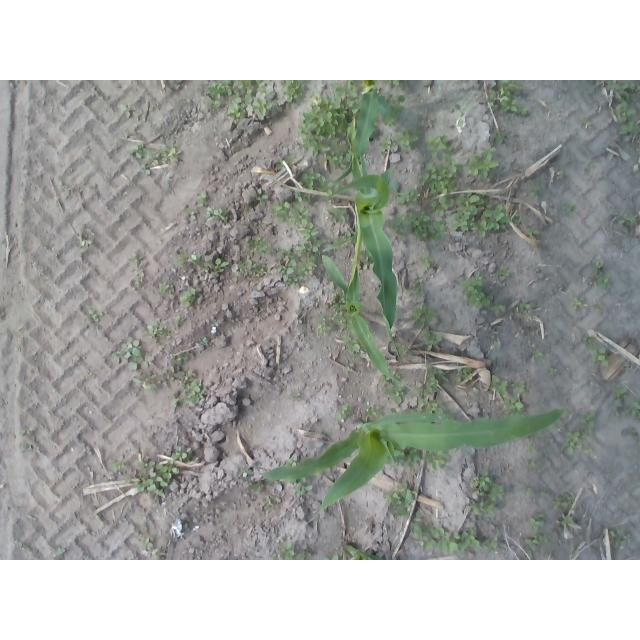Maize: (242, 409, 566, 528), (325, 108, 400, 357), (322, 201, 415, 396), (333, 80, 392, 184), (344, 545, 386, 560)
Weeds: (299, 92, 348, 168), (122, 446, 192, 499), (452, 189, 521, 237), (410, 521, 499, 553), (605, 80, 639, 142), (392, 210, 448, 243), (273, 202, 320, 239), (468, 470, 505, 516), (273, 249, 318, 286), (423, 158, 462, 199), (488, 81, 528, 115), (110, 340, 150, 371), (468, 145, 501, 179), (461, 272, 490, 307), (385, 480, 413, 516), (182, 371, 205, 404), (204, 81, 232, 108), (427, 136, 454, 161), (233, 80, 272, 97), (423, 400, 453, 419), (410, 303, 437, 324), (592, 260, 612, 288), (384, 96, 404, 123), (295, 237, 323, 256), (145, 322, 169, 343), (424, 451, 449, 471), (175, 249, 202, 267), (610, 525, 632, 547), (422, 329, 443, 352), (204, 259, 229, 278), (282, 81, 303, 103), (333, 308, 352, 332), (334, 81, 359, 99), (132, 375, 159, 390), (612, 388, 631, 409), (301, 169, 320, 190), (328, 207, 349, 226), (178, 288, 197, 309), (431, 198, 457, 213), (404, 279, 424, 298), (248, 235, 268, 254), (401, 450, 420, 470), (591, 348, 609, 369), (418, 377, 436, 398), (500, 395, 525, 410), (399, 128, 421, 145), (253, 97, 272, 116), (397, 190, 419, 206), (489, 375, 507, 394), (294, 478, 313, 496), (318, 174, 335, 194), (564, 432, 580, 453), (385, 385, 403, 403), (277, 541, 295, 559), (317, 317, 334, 336), (581, 411, 598, 429), (228, 98, 244, 117), (453, 101, 473, 116), (206, 207, 227, 221), (555, 493, 572, 510), (166, 144, 182, 162), (344, 336, 360, 354), (618, 214, 638, 227), (456, 369, 473, 384), (530, 514, 545, 531), (626, 401, 640, 419), (513, 381, 532, 394), (238, 257, 255, 271), (127, 144, 145, 157), (87, 310, 105, 323), (421, 256, 435, 272), (111, 453, 123, 471), (523, 537, 537, 552), (622, 426, 639, 438), (337, 403, 351, 417), (380, 136, 393, 151), (142, 539, 155, 554), (121, 105, 135, 118), (166, 366, 176, 382), (570, 297, 583, 309), (130, 250, 142, 263), (363, 407, 377, 418), (561, 517, 575, 528), (345, 359, 355, 374), (80, 235, 93, 246), (195, 195, 209, 205), (252, 263, 266, 273), (297, 551, 312, 560), (518, 299, 530, 310), (490, 133, 502, 144), (583, 336, 593, 349), (257, 189, 267, 202), (176, 354, 190, 363), (19, 426, 33, 435), (158, 283, 169, 294), (547, 367, 558, 377), (491, 305, 502, 315), (399, 343, 410, 353), (498, 270, 511, 278), (528, 187, 541, 195), (141, 165, 151, 175), (287, 457, 298, 466), (294, 191, 303, 202), (287, 155, 298, 164), (251, 482, 262, 491), (172, 396, 180, 408), (276, 159, 284, 171), (291, 389, 300, 399), (323, 556, 341, 561), (533, 350, 544, 358), (528, 226, 539, 234), (537, 535, 549, 542), (528, 460, 538, 468), (493, 341, 501, 351), (383, 80, 399, 85), (140, 524, 148, 533), (529, 443, 536, 453), (582, 119, 592, 126), (20, 444, 30, 451), (183, 207, 194, 213), (582, 430, 590, 438), (145, 151, 153, 159), (242, 202, 250, 210), (567, 204, 576, 211), (269, 497, 276, 505), (56, 550, 64, 557), (540, 492, 550, 497), (589, 162, 596, 169), (584, 448, 593, 453), (525, 487, 531, 494), (558, 170, 563, 178), (203, 336, 208, 344), (176, 315, 181, 321), (615, 413, 619, 418)
